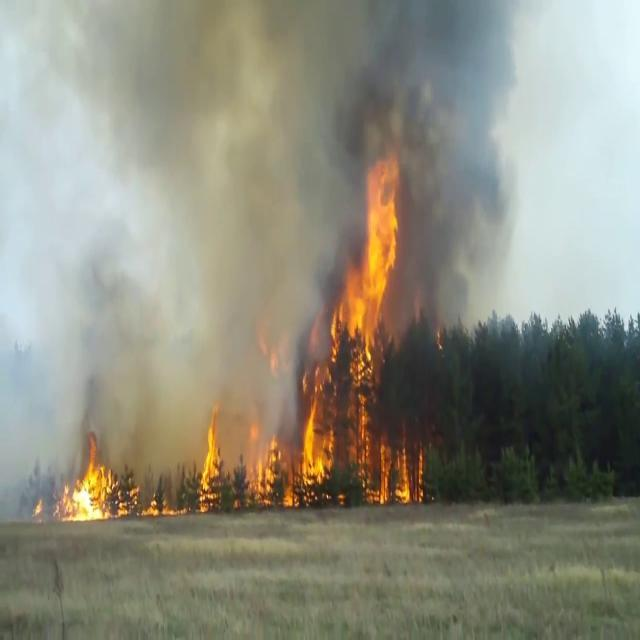Fire: (294, 148, 409, 504), (58, 444, 117, 522), (371, 428, 424, 506), (198, 414, 222, 508)
Smoke: (1, 0, 500, 370)
